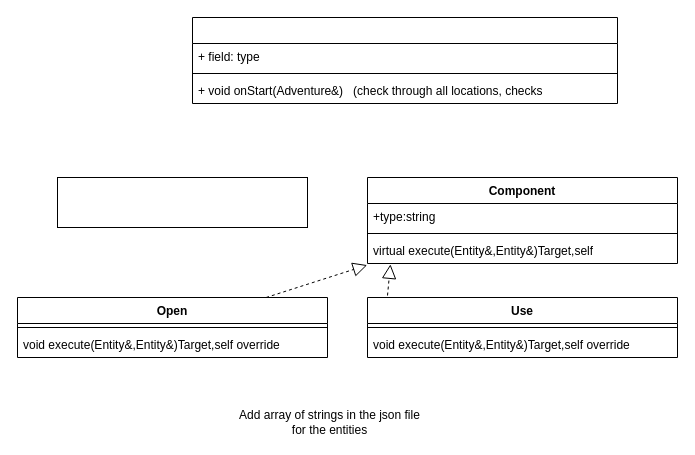
Image size: 695x455. Some labels were removed from this diagram. The shapes that lost their labels are listed below. From the top down, each one's box as (x1, y1, x2, y2) in pixels, then its label:
(192, 16, 618, 104): ComponentManager
(56, 176, 308, 228): map<string,Component> (this would be stored in the entity)
